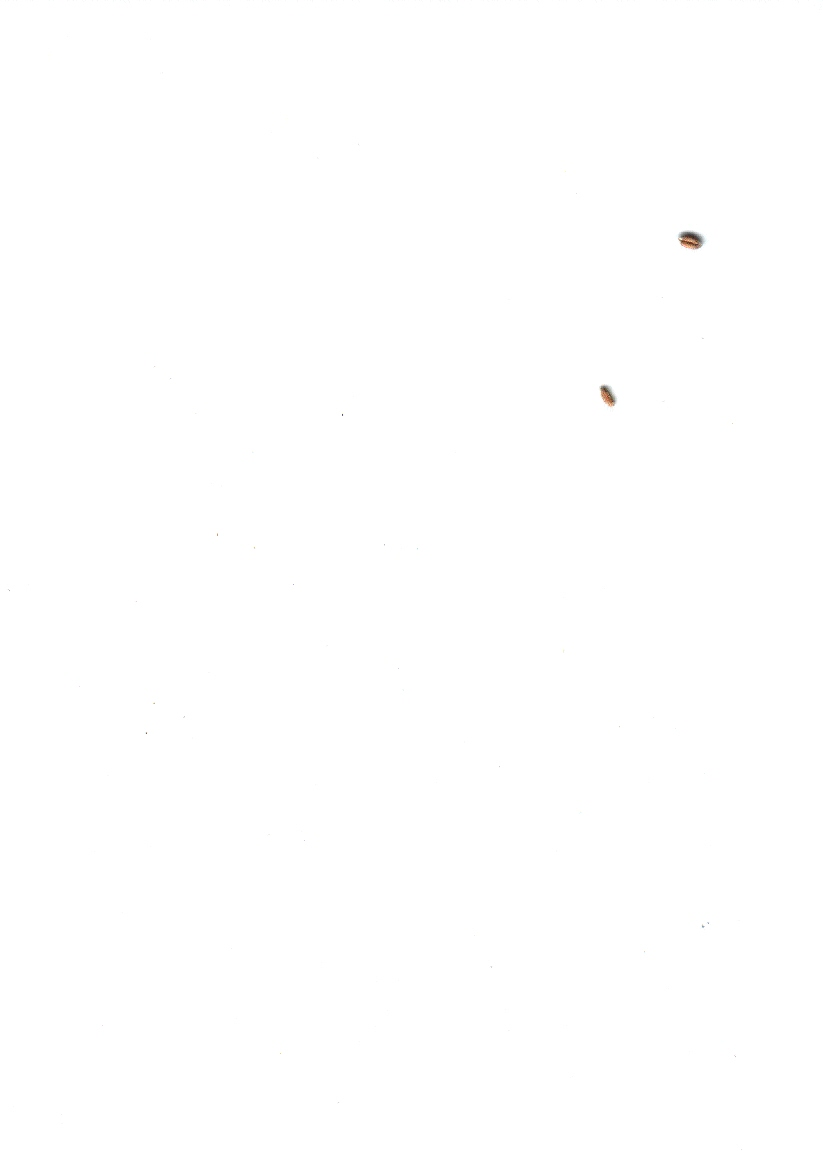grains: (659, 215, 711, 263), (585, 377, 627, 420)
